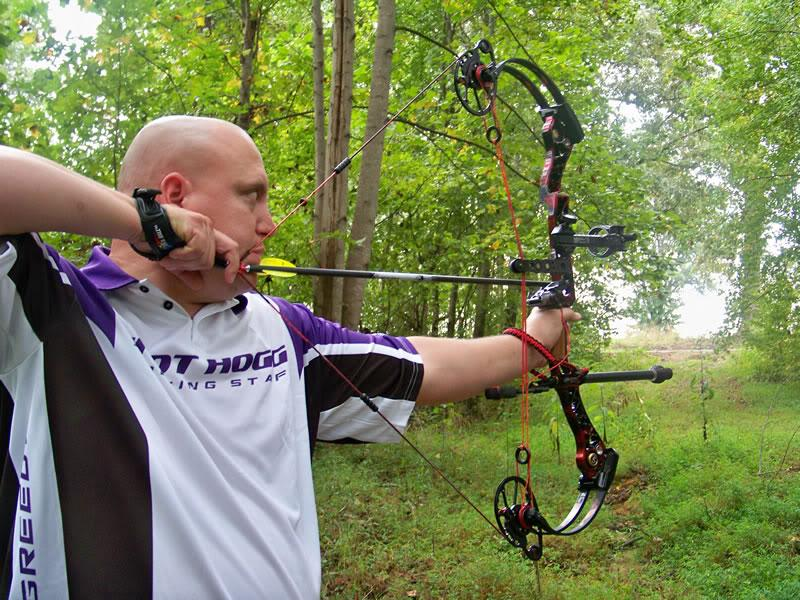person: (3, 115, 586, 600)
